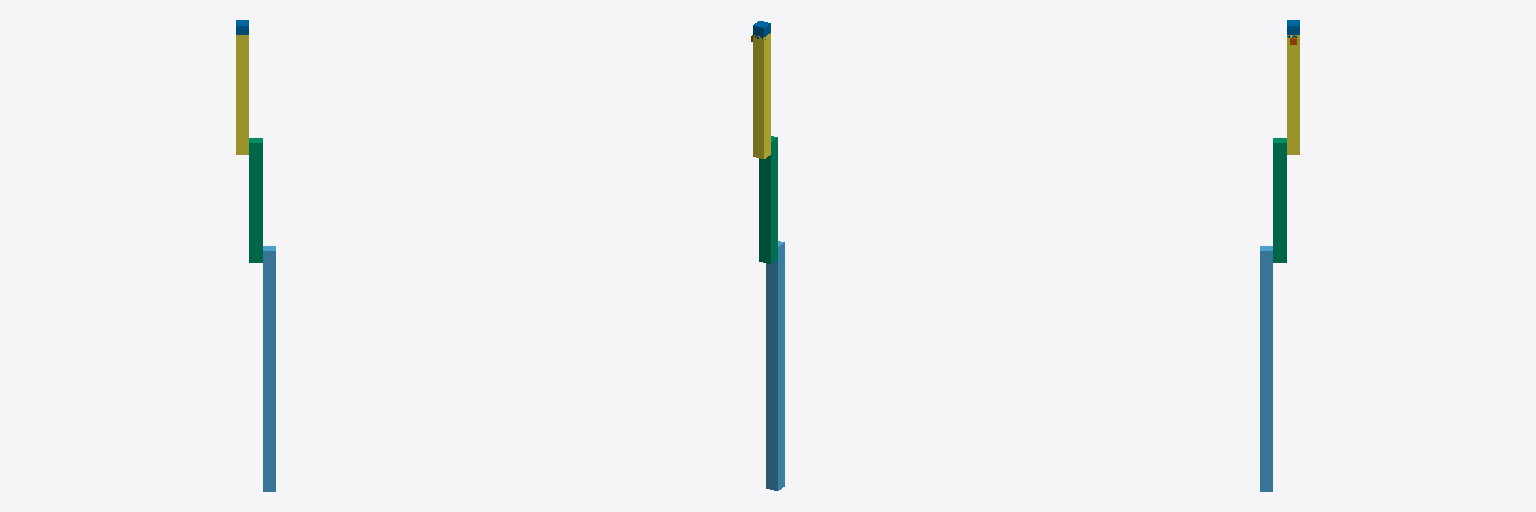
robot.urdf — rrbot:
<?xml version="1.0"?>
<!-- Revolute-Revolute Manipulator -->
<robot name="rrbot">
  <!-- Space btw top of beam and the each joint -->
  <!-- Used for fixing robot to Gazebo 'base_link' -->
  <link name="world"/>
  <joint name="fixed" type="fixed">
    <parent link="world"/>
    <child link="link1"/>
  </joint>
  <!-- Base Link -->
  <link name="link1">
    <collision>
      <origin rpy="0 0 0" xyz="0 0 1.0"/>
      <geometry>
        <box size="0.1 0.1 2"/>
      </geometry>
    </collision>
    <visual>
      <origin rpy="0 0 0" xyz="0 0 1.0"/>
      <geometry>
        <box size="0.1 0.1 2"/>
      </geometry>
      <material name="orange"/>
    </visual>
    <inertial>
      <origin rpy="0 0 0" xyz="0 0 1.0"/>
      <mass value="1"/>
      <inertia ixx="0.334166666667" ixy="0.0" ixz="0.0" iyy="0.334166666667" iyz="0.0" izz="0.00166666666667"/>
    </inertial>
  </link>
  <joint name="joint1" type="continuous">
    <parent link="link1"/>
    <child link="link2"/>
    <origin rpy="0 0 0" xyz="0 0.1 1.95"/>
    <axis xyz="0 1 0"/>
    <dynamics damping="0.7"/>
  </joint>
  <!-- Middle Link -->
  <link name="link2">
    <collision>
      <origin rpy="0 0 0" xyz="0 0 0.45"/>
      <geometry>
        <box size="0.1 0.1 1"/>
      </geometry>
    </collision>
    <visual>
      <origin rpy="0 0 0" xyz="0 0 0.45"/>
      <geometry>
        <box size="0.1 0.1 1"/>
      </geometry>
      <material name="black"/>
    </visual>
    <inertial>
      <origin rpy="0 0 0" xyz="0 0 0.45"/>
      <mass value="1"/>
      <inertia ixx="0.0841666666667" ixy="0.0" ixz="0.0" iyy="0.0841666666667" iyz="0.0" izz="0.00166666666667"/>
    </inertial>
  </link>
  <joint name="joint2" type="continuous">
    <parent link="link2"/>
    <child link="link3"/>
    <origin rpy="0 0 0" xyz="0 0.1 0.9"/>
    <axis xyz="0 1 0"/>
    <dynamics damping="0.7"/>
  </joint>
  <!-- Top Link -->
  <link name="link3">
    <collision>
      <origin rpy="0 0 0" xyz="0 0 0.45"/>
      <geometry>
        <box size="0.1 0.1 1"/>
      </geometry>
    </collision>
    <visual>
      <origin rpy="0 0 0" xyz="0 0 0.45"/>
      <geometry>
        <box size="0.1 0.1 1"/>
      </geometry>
      <material name="orange"/>
    </visual>
    <inertial>
      <origin rpy="0 0 0" xyz="0 0 0.45"/>
      <mass value="1"/>
      <inertia ixx="0.0841666666667" ixy="0.0" ixz="0.0" iyy="0.0841666666667" iyz="0.0" izz="0.00166666666667"/>
    </inertial>
  </link>
  <joint name="hokuyo_joint" type="fixed">
    <axis xyz="0 1 0"/>
    <origin rpy="0 0 0" xyz="0 0 0.975"/>
    <parent link="link3"/>
    <child link="hokuyo_link"/>
  </joint>
  <!-- Hokuyo Laser -->
  <link name="hokuyo_link">
    <collision>
      <origin rpy="0 0 0" xyz="0 0 0"/>
      <geometry>
        <box size="0.1 0.1 0.1"/>
      </geometry>
    </collision>
    <visual>
      <origin rpy="0 0 0" xyz="0 0 0"/>
      <geometry>
        <box size="0.1 0.1 0.1"/>
      </geometry>
    </visual>
    <inertial>
      <mass value="1e-5"/>
      <origin rpy="0 0 0" xyz="0 0 0"/>
      <inertia ixx="1e-6" ixy="0" ixz="0" iyy="1e-6" iyz="0" izz="1e-6"/>
    </inertial>
  </link>
  <joint name="camera_joint" type="fixed">
    <axis xyz="0 1 0"/>
    <origin rpy="0 0 0" xyz="0.05 0 0.9"/>
    <parent link="link3"/>
    <child link="camera_link"/>
  </joint>
  <!-- Camera -->
  <link name="camera_link">
    <collision>
      <origin rpy="0 0 0" xyz="0 0 0"/>
      <geometry>
        <box size="0.05 0.05 0.05"/>
      </geometry>
    </collision>
    <visual>
      <origin rpy="0 0 0" xyz="0 0 0"/>
      <geometry>
        <box size="0.05 0.05 0.05"/>
      </geometry>
      <material name="red"/>
    </visual>
    <inertial>
      <mass value="1e-5"/>
      <origin rpy="0 0 0" xyz="0 0 0"/>
      <inertia ixx="1e-6" ixy="0" ixz="0" iyy="1e-6" iyz="0" izz="1e-6"/>
    </inertial>
  </link>
  <!-- generate an optical frame http://www.ros.org/reps/rep-0103.html#suffix-frames
      so that ros and opencv can operate on the camera frame correctly -->
  <joint name="camera_optical_joint" type="fixed">
    <!-- these values have to be these values otherwise the gazebo camera image
        won't be aligned properly with the frame it is supposedly originating from -->
    <origin rpy="-1.57079632679 0 -1.57079632679" xyz="0 0 0"/>
    <parent link="camera_link"/>
    <child link="camera_link_optical"/>
  </joint>
  <link name="camera_link_optical">
  </link>
</robot>

--- Render facts (derived) ---
3 views of the same robot in one strip: view 1: azimuth 90°, elevation 25°; view 2: azimuth 150°, elevation 25°; view 3: azimuth 270°, elevation 25° (orthographic).
Model rrbot with 7 links and 6 joints (2 continuous, 4 fixed), rooted at world, posed all joints at 0.
Visible links, largest first — view 1: link1, link2, link3; view 2: link1, link3, link2; view 3: link1, link2, link3.
Boxes of the visible links, box(x1,y1,x2,y2) form: link1: box(263, 246, 275, 491); link2: box(249, 138, 262, 262); link3: box(236, 35, 248, 154); link1: box(766, 241, 784, 490); link3: box(753, 33, 770, 158); link2: box(759, 136, 777, 263); link1: box(1260, 246, 1272, 491); link2: box(1273, 138, 1286, 262); link3: box(1287, 35, 1299, 154).
Bounding box of the posed robot: 0.125 × 0.3 × 3.88 m (x, y, z).
Geometry: primitives only (box / cylinder / sphere), no mesh files.
